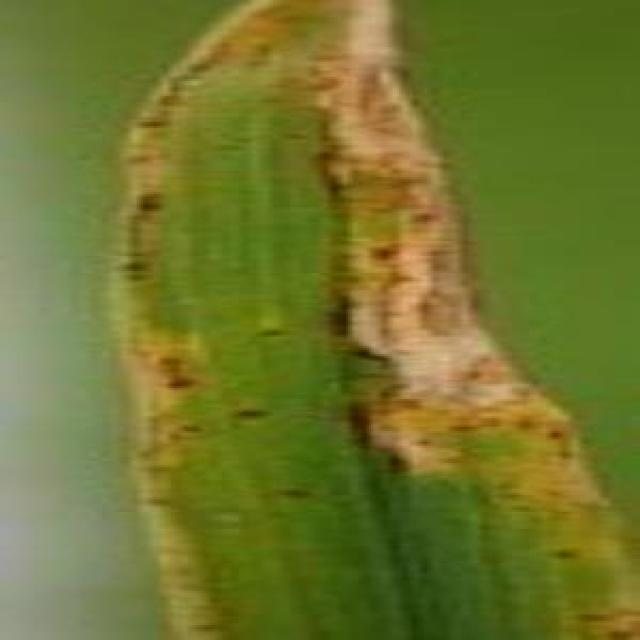Bacterial_Leaf_Blight: (102, 10, 497, 636)
